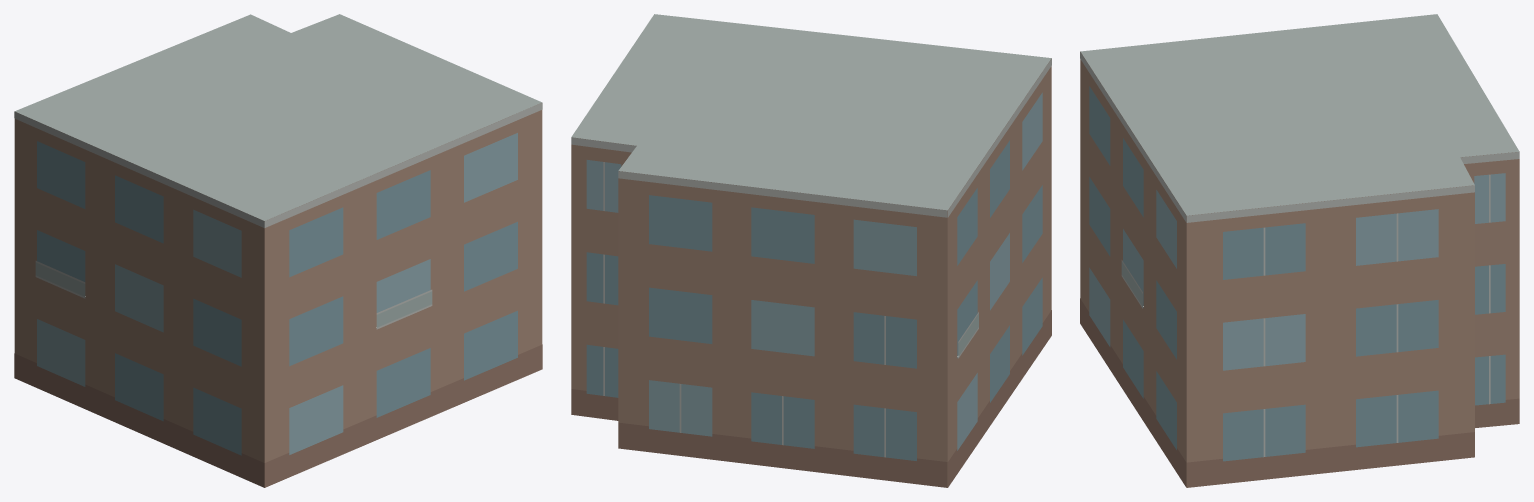
Rendered from survey-upis-32676847.glb.
3 views of the same model, side by side, from view 1: azimuth 30°, elevation 25°; view 2: azimuth 150°, elevation 25°; view 3: azimuth 270°, elevation 25° (orthographic). The views are drawn at different scales.
Parts seen in each view (by area): view 1: survey-upis-32676847.tmp; view 2: survey-upis-32676847.tmp; view 3: survey-upis-32676847.tmp.
Boxes of the visible parts, x1=… form: survey-upis-32676847.tmp: x1=14, y1=14, x2=542, y2=487; survey-upis-32676847.tmp: x1=571, y1=14, x2=1051, y2=487; survey-upis-32676847.tmp: x1=1080, y1=14, x2=1519, y2=487.
Size of the model in its own units: 14.55 by 9.15 by 13.4.
